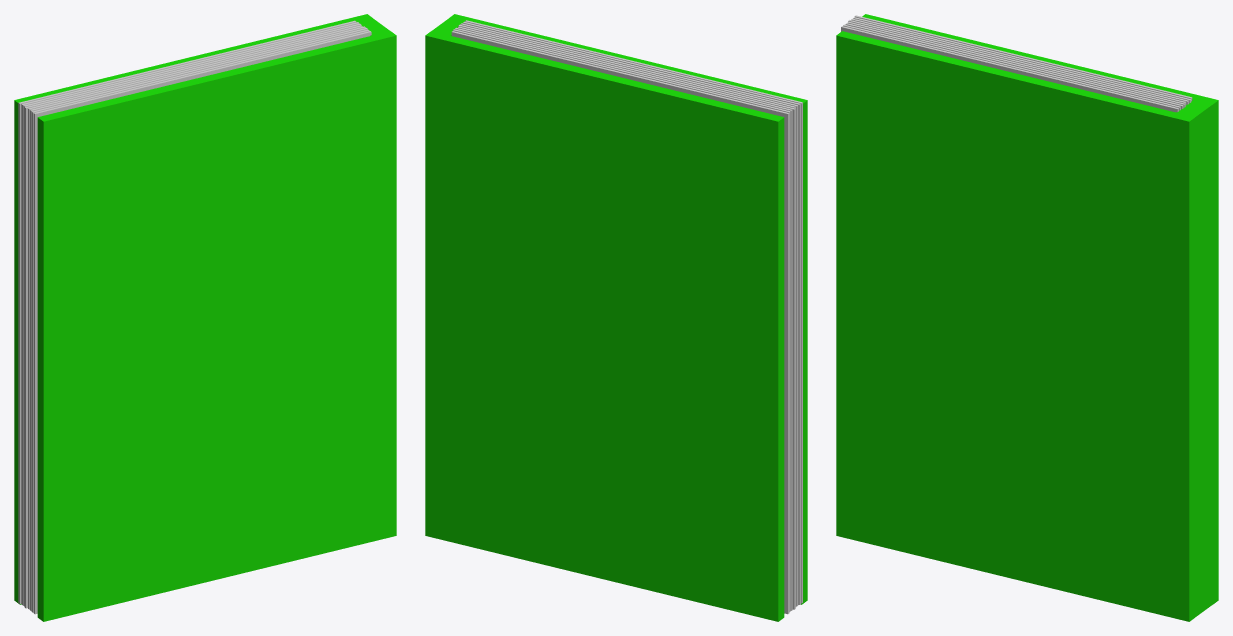
File: book5.fbx
3 views of the same model, side by side, from view 1: azimuth 30°, elevation 25°; view 2: azimuth 150°, elevation 25°; view 3: azimuth 330°, elevation 25° (orthographic).
Parts seen in each view (by area): view 1: Cube.001; view 2: Cube.001; view 3: Cube.001.
Part boxes in pixels (left/top/right/bottom): Cube.001: left=14, top=14, right=396, bottom=621; Cube.001: left=425, top=14, right=807, bottom=621; Cube.001: left=836, top=14, right=1218, bottom=621.
Bounding box in the file's own units: 766 × 1036 × 110.
